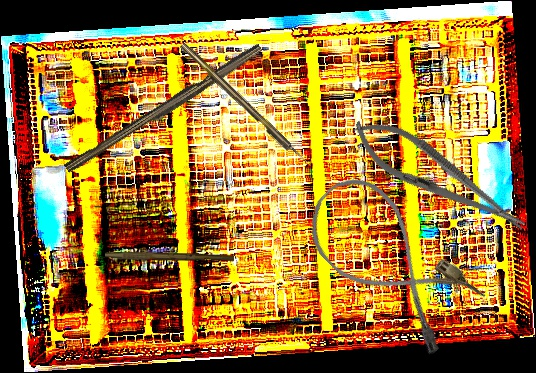Cannula: (291, 163, 491, 360)
Hook Surgical: (179, 41, 310, 168)
Needle Holder: (342, 105, 536, 249)
Scalpel Handle: (63, 40, 266, 179), (105, 252, 234, 262)
